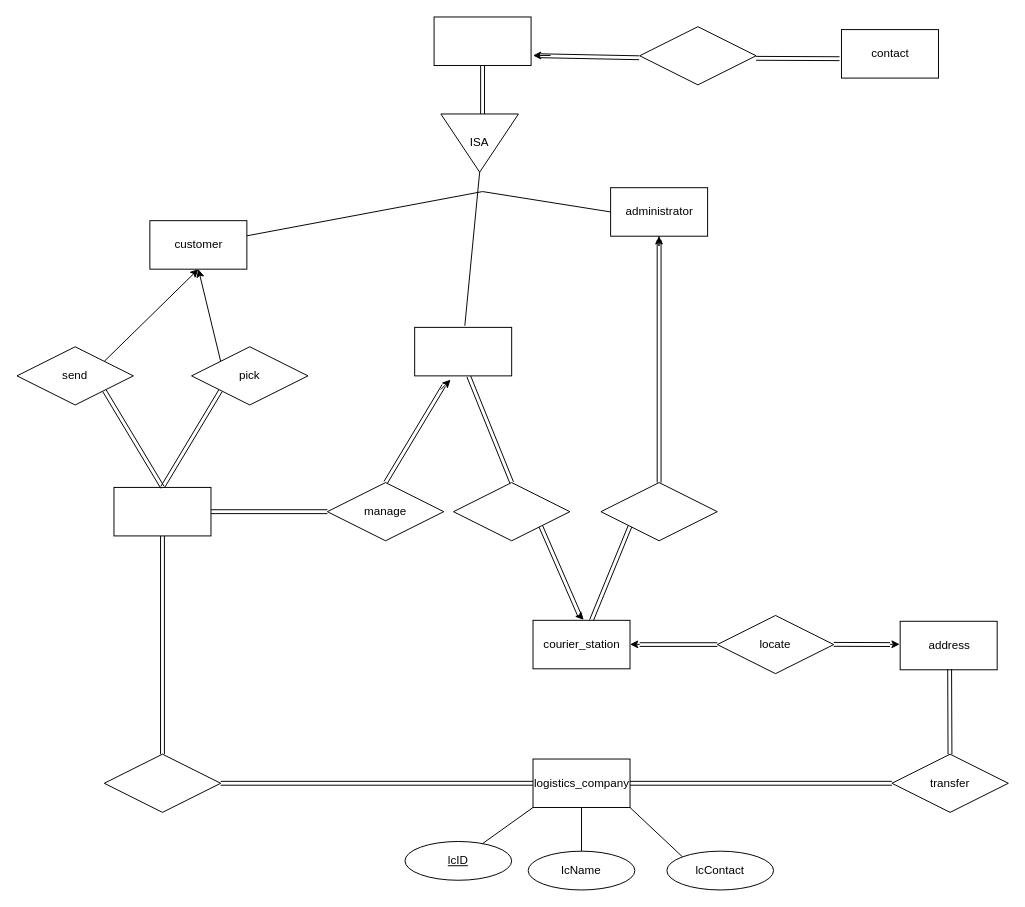
Image size: 1025x907. Some labels were removed from this diagram. The shapes that lost their labels are listed below. From the top down, each one's centre as x and y in pixels, then its label:
At (x=482, y=40): "user".
At (x=697, y=55): "touch".
At (x=463, y=351): "delivery_manager".
At (x=162, y=511): "parcel".
At (x=511, y=511): "belong".
At (x=658, y=511): "control".
At (x=162, y=782): "carry".
